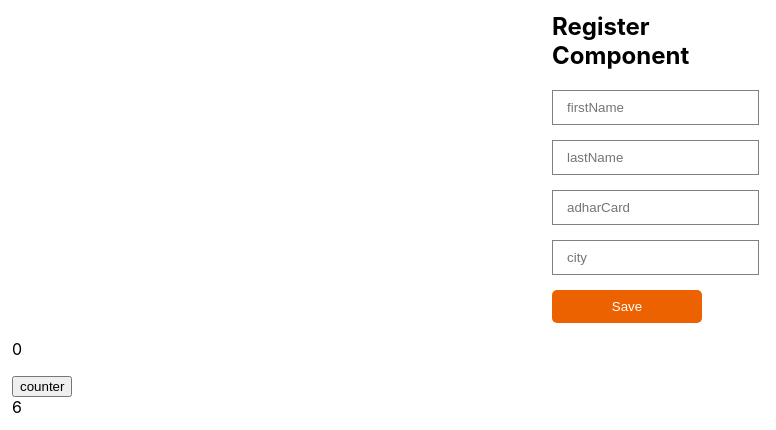
Test: Register component › increment
This screenshot has width=776, height=430.
Click the button with test id "increment": (42, 386) top-left (12, 376), bottom-right (72, 397)
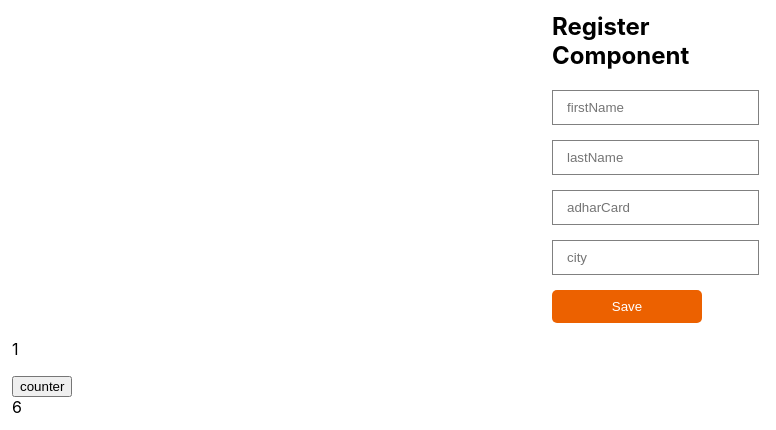
Now the text with test id "counter" reads "1", box top-left (12, 339), bottom-right (18, 359)
